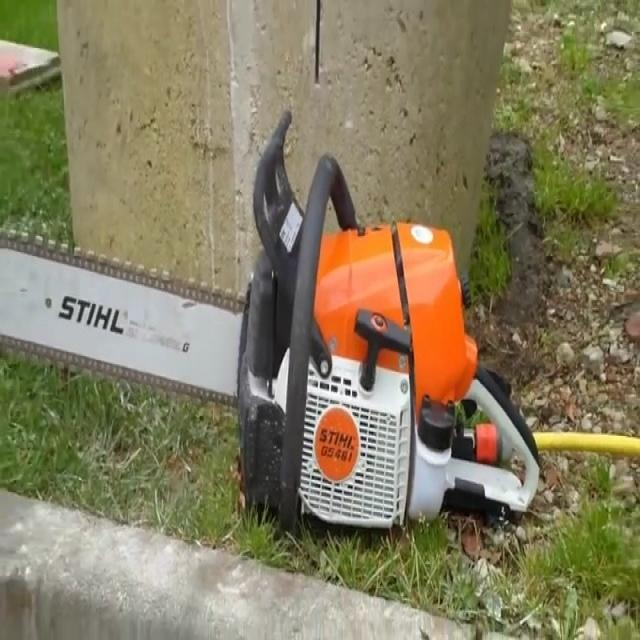Chainsaw: (0, 104, 580, 536)
